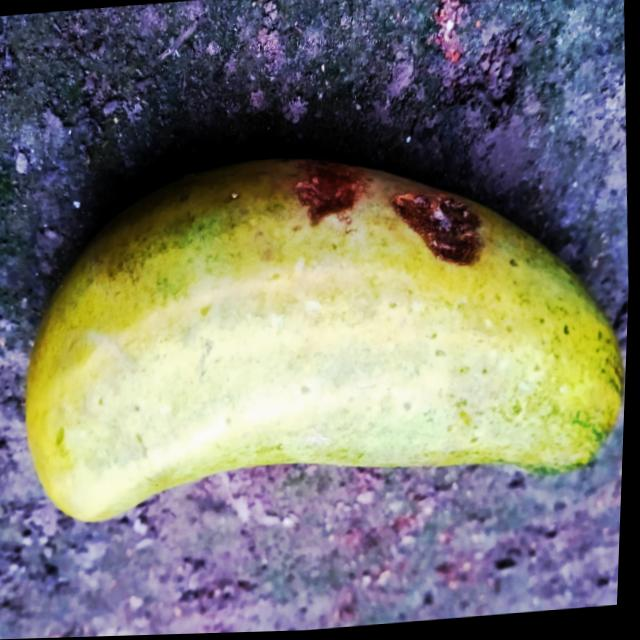Belly-Rot: (385, 182, 490, 289), (290, 159, 377, 238)
